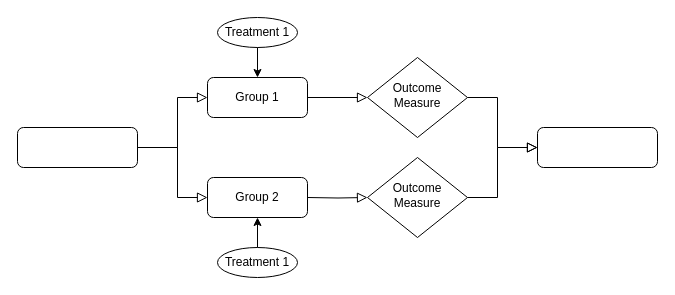
The diagram is 675 pixels wide and 295 high, and some of its shapes have lost their labels. Here are the shapes that lost their labels. From the top down, the centre of each, then its label:
point 77,147: Random Assignment
point 597,147: Compare Outcomes
